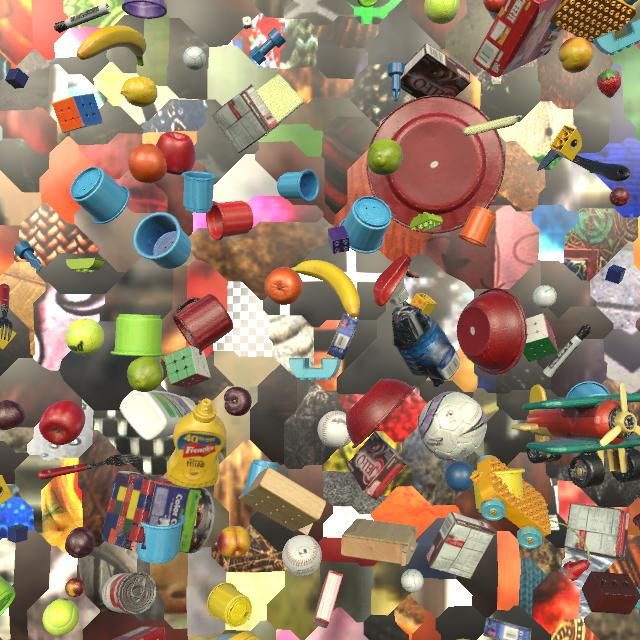ycb_003_cracker_box: (473, 0, 563, 78), (112, 626, 165, 640)
ycb_005_tomato_soup_can: (102, 572, 156, 614)
ycb_006_mustard_bottle: (167, 399, 227, 488), (188, 631, 260, 640), (457, 639, 468, 640)
ycb_007_tuna_fish_can: (327, 313, 359, 360), (483, 617, 531, 640)
ycb_008_pudding_box: (426, 511, 495, 579), (212, 84, 279, 153), (346, 431, 406, 500), (400, 43, 471, 98), (564, 503, 631, 561)
ycb_009_gelatin_box: (313, 570, 343, 628)
ycb_011_banana: (291, 260, 360, 318), (76, 25, 147, 66)
ycb_012_strawberry: (597, 69, 621, 98)
ycb_013_apple: (39, 400, 85, 445), (156, 131, 195, 175)
ycb_014_lemon: (120, 76, 158, 107)
ycb_015_peach: (558, 37, 593, 73), (217, 526, 251, 558)
ycb_016_pear: (367, 139, 403, 176), (127, 356, 164, 392)
ycb_017_orange: (128, 143, 167, 184), (264, 267, 303, 305)
ycb_018_plum: (65, 527, 95, 558), (224, 387, 252, 416), (0, 400, 25, 430)
